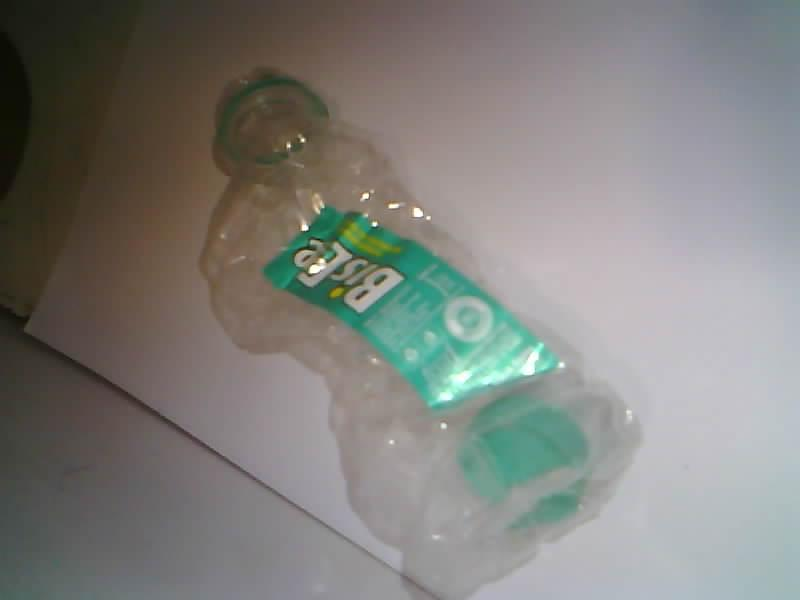non-biodegradable: (202, 75, 639, 599)
